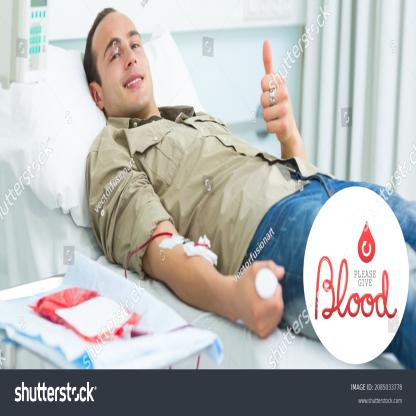Thumbs up: (244, 43, 309, 138)
